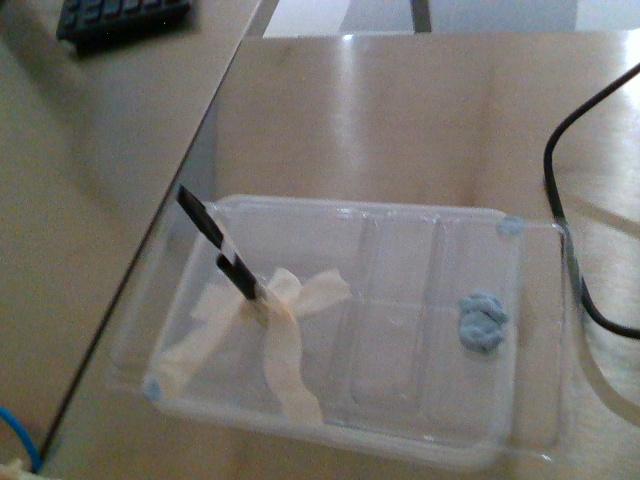test_strip: (173, 183, 236, 262)
